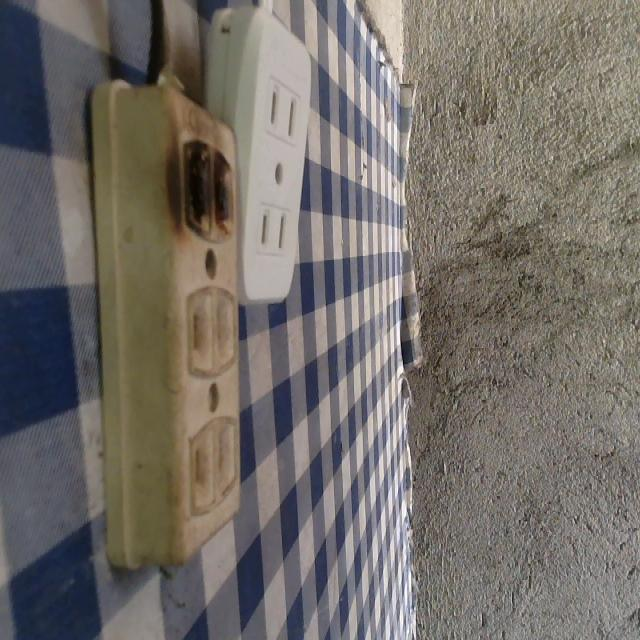-: (161, 115, 241, 252)
